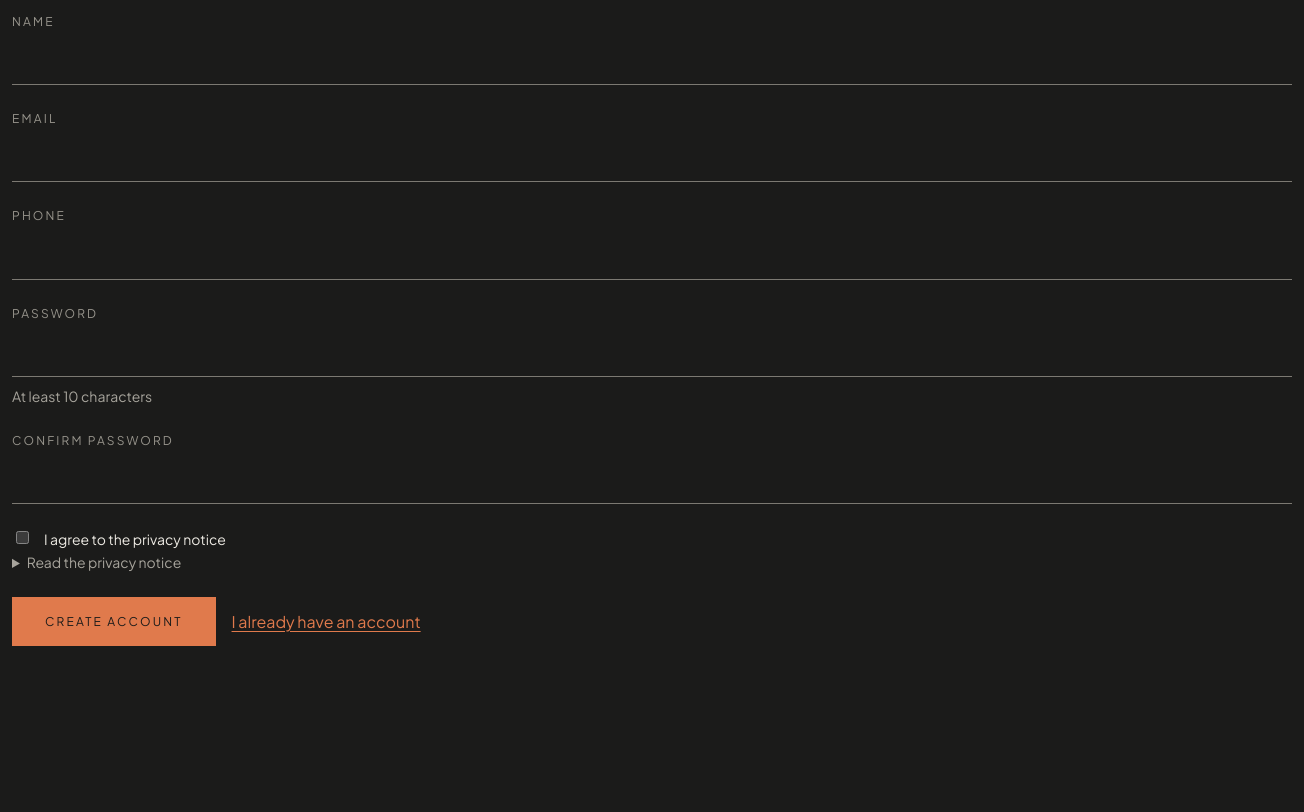
RegisterForm › creates the account and points to the demo outbox for the link
Type "Alex Rivera" into the field labelled "Name".
click(652, 62); type("Alex Rivera")  # box [12, 39, 1292, 85]
Type "alex@example.com" into the field labelled "Email".
click(652, 159); type("alex@example.com")  # box [12, 136, 1292, 182]
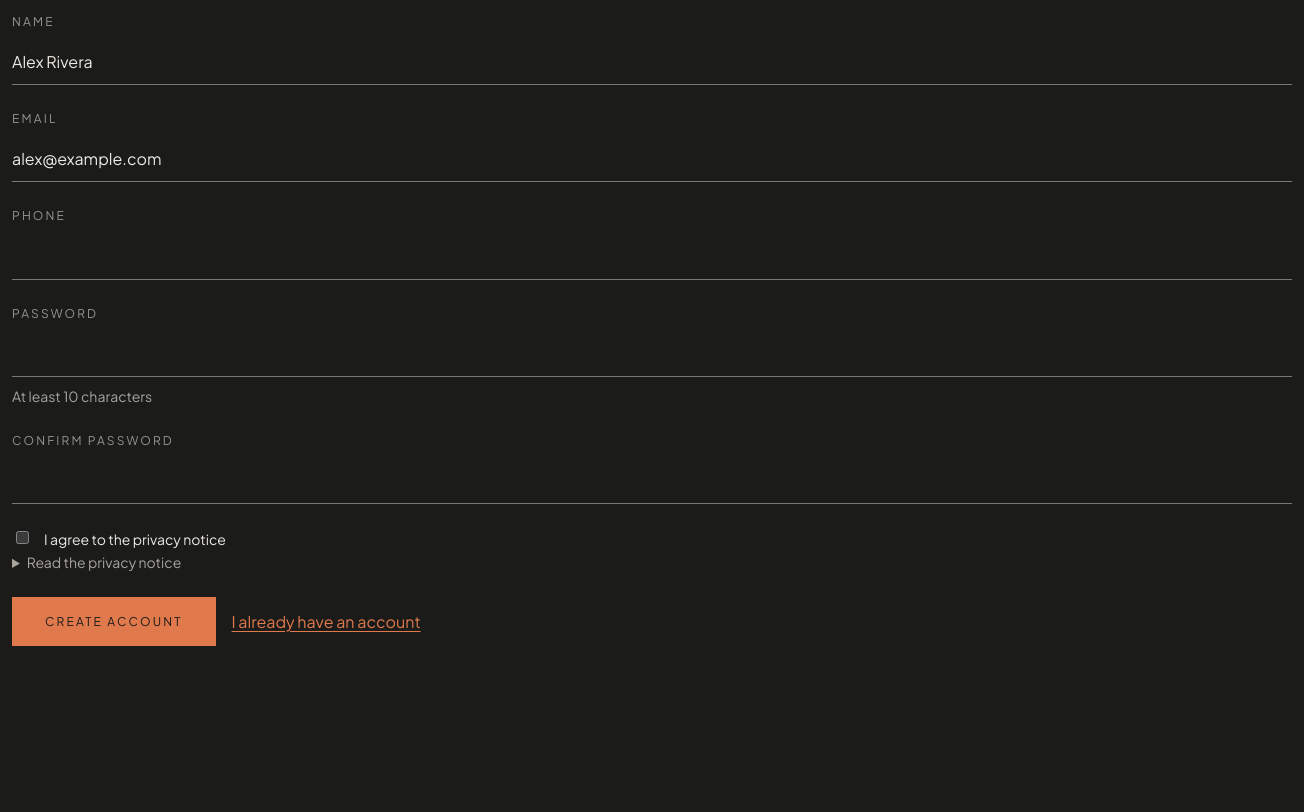
Type "+63 917 555 0142" into the field labelled "Phone".
click(652, 257); type("+63 917 555 0142")  # box [12, 234, 1292, 280]
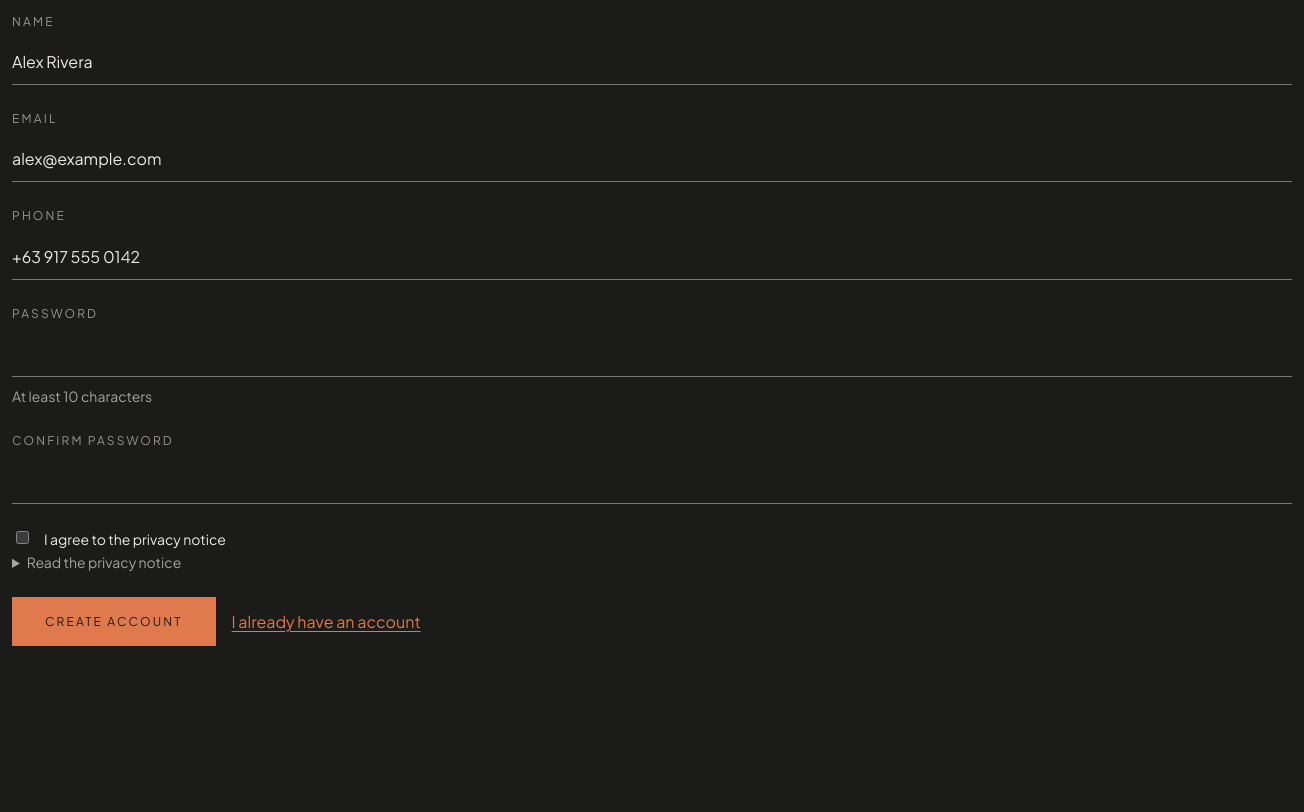
Type "copper-lantern-42" into the password field labelled "Password".
click(652, 354); type("copper-lantern-42")  # box [12, 331, 1292, 377]
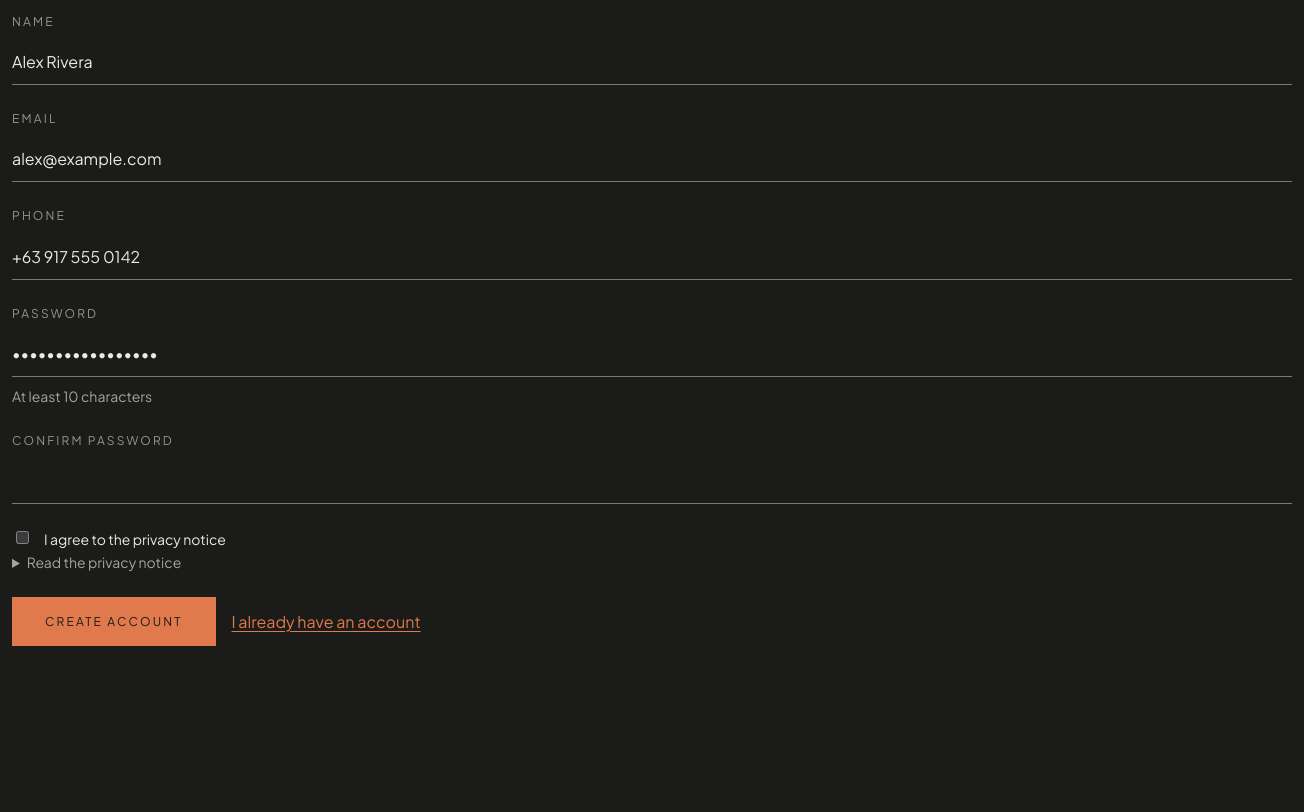
Type "copper-lantern-42" into the password field labelled "Confirm password".
click(652, 481); type("copper-lantern-42")  # box [12, 458, 1292, 504]
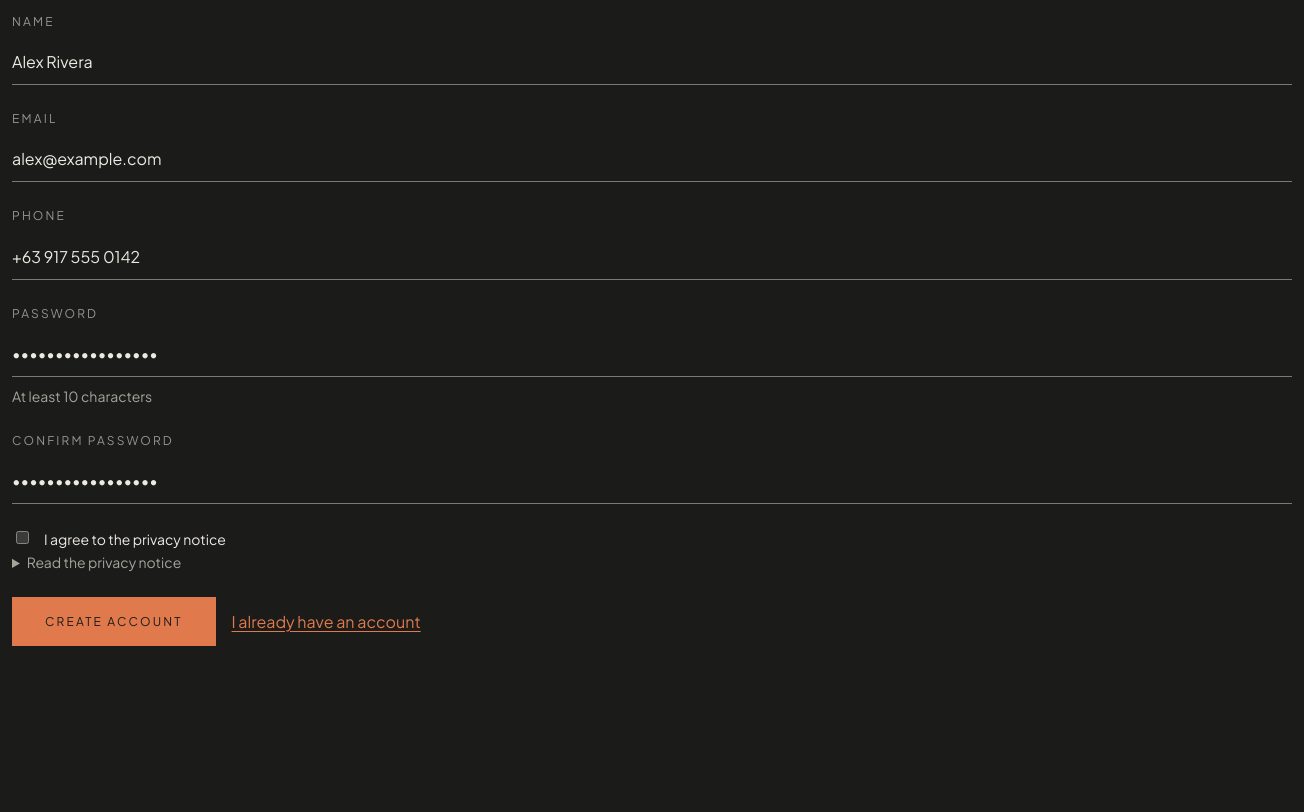
Click the checkbox labelled "I agree to the privacy notice".
click(22, 538)  # box [16, 531, 29, 544]
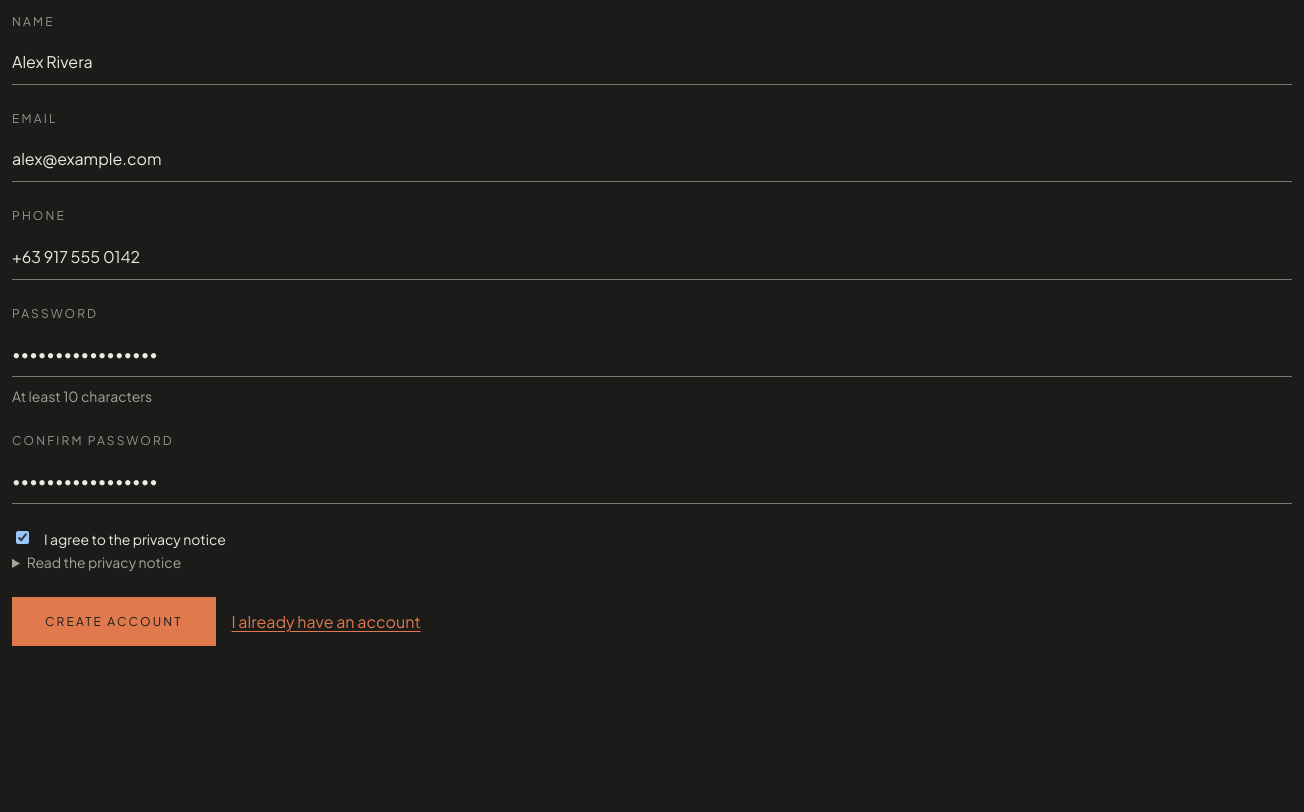
Click the button "Create account".
click(114, 622)  # box [12, 597, 216, 646]
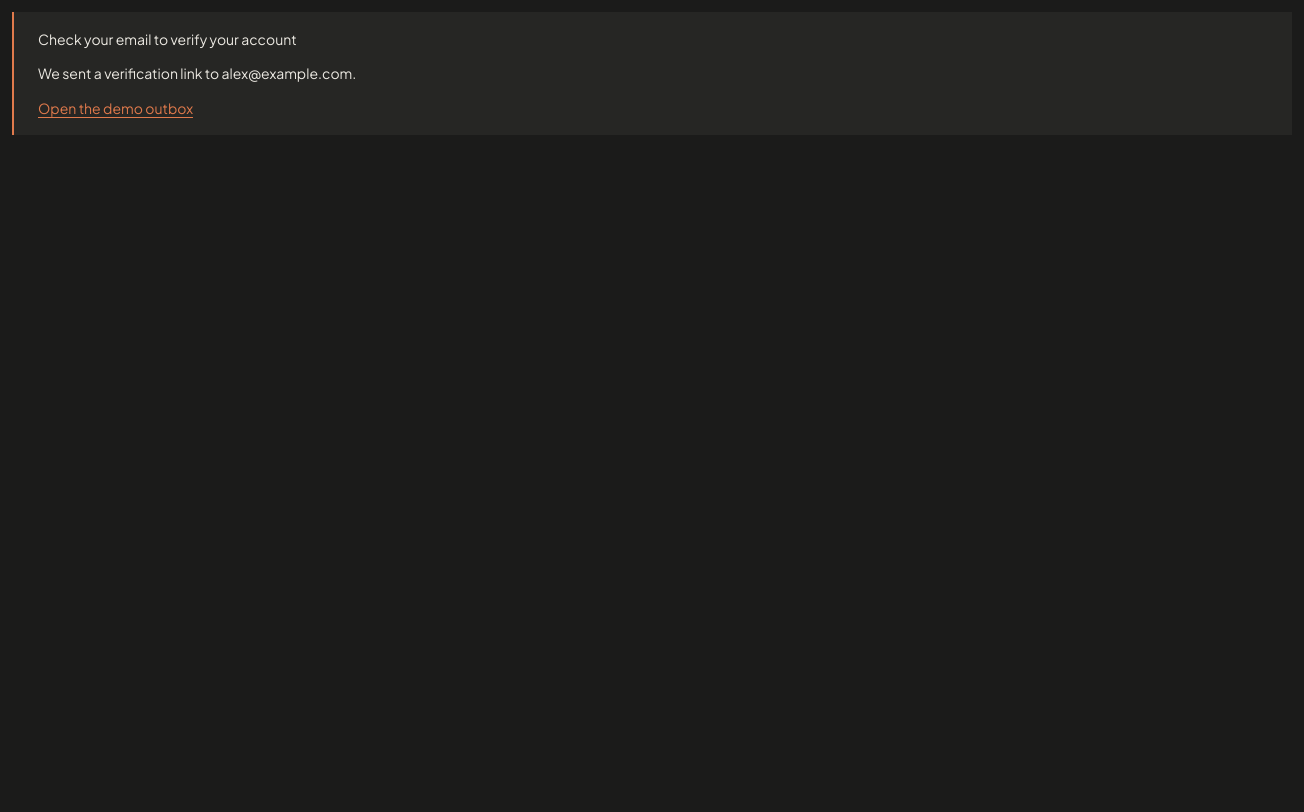
Expected: the text "Check your email to verify your account" is shown, [38, 30, 297, 48]
